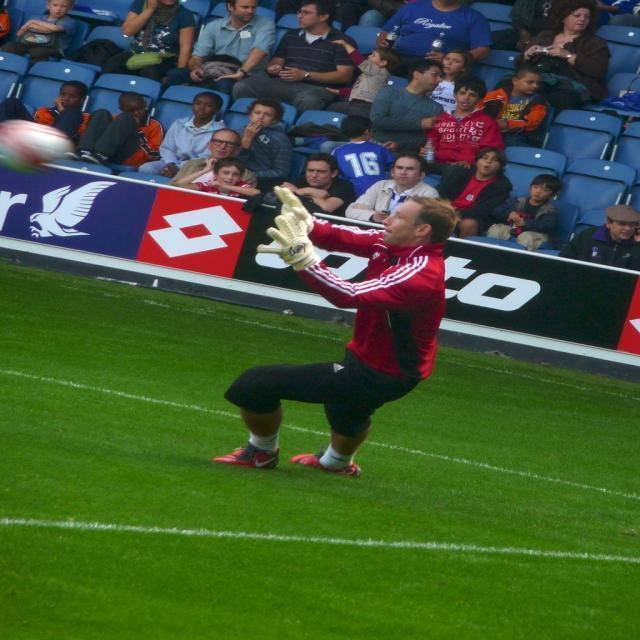ball: (0, 123, 77, 174)
